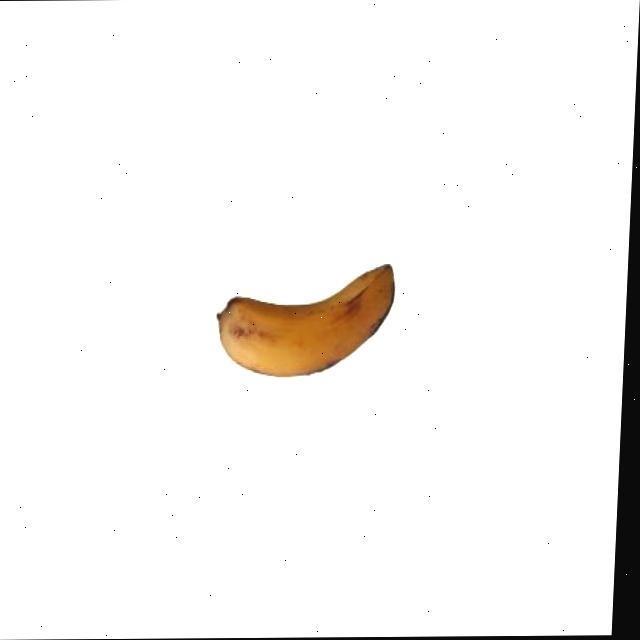banana: (214, 266, 395, 378)
